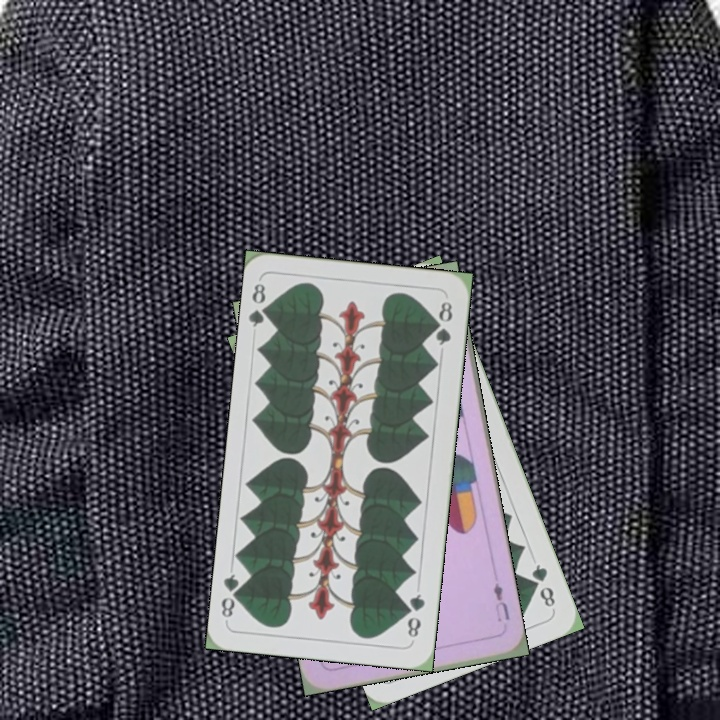EU: (489, 578, 512, 625)
G8: (527, 560, 558, 610), (245, 279, 275, 330), (402, 589, 428, 640)
